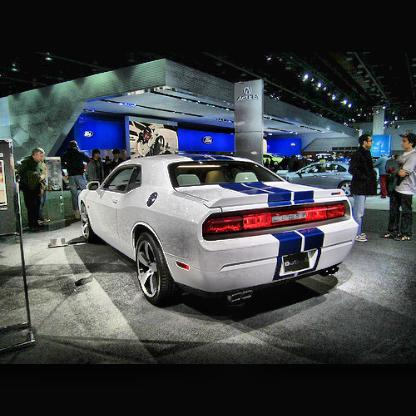Dodge Challenger SRT8 2011: (80, 156, 359, 309)
